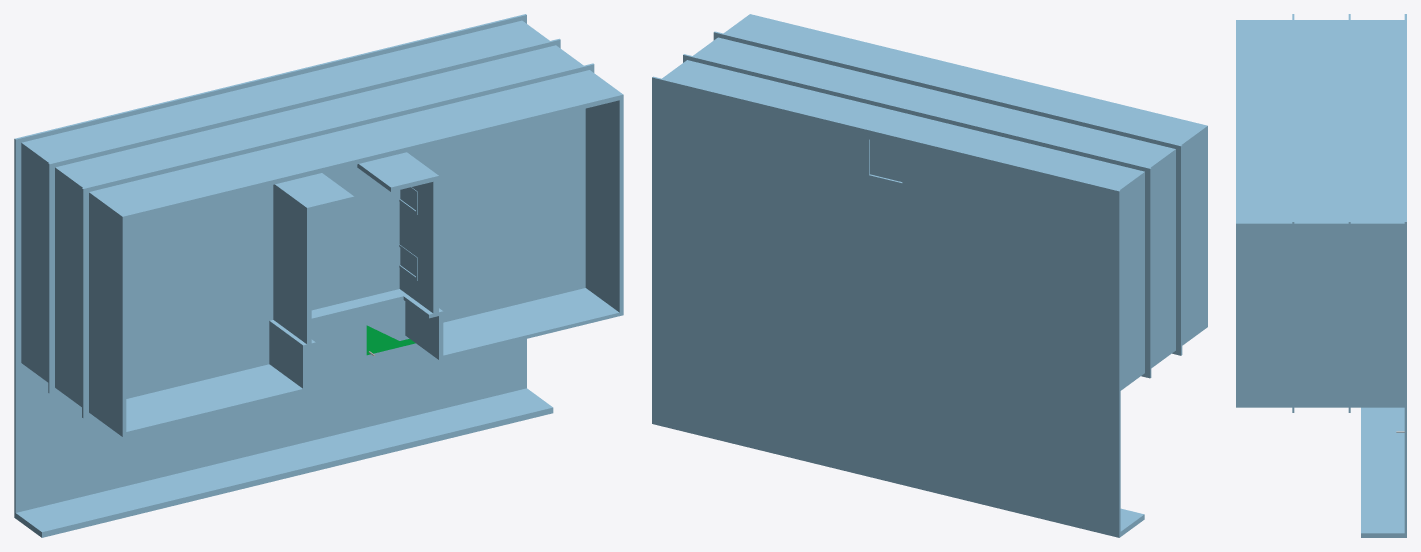
Rendered from building_set2.obj.
3 views of the same model, side by side, from view 1: azimuth 30°, elevation 25°; view 2: azimuth 150°, elevation 25°; view 3: azimuth 270°, elevation 25° (orthographic). The views are drawn at different scales.
Visible parts, largest first — view 1: Floor_2_Plane.005, Lobby_Plane.001, Floor_1_Plane.002; view 2: Lobby_Plane.001, Floor_2_Plane.005, Floor_1_Plane.002; view 3: Lobby_Plane.001, Floor_2_Plane.005, Floor_1_Plane.002.
Part boxes in pixels (x1,y1,x2,y2): Floor_2_Plane.005: [82, 63, 623, 436]; Lobby_Plane.001: [14, 14, 553, 537]; Floor_1_Plane.002: [48, 38, 583, 406]; Lobby_Plane.001: [652, 60, 1144, 537]; Floor_2_Plane.005: [713, 14, 1207, 355]; Floor_1_Plane.002: [683, 37, 1175, 378]; Lobby_Plane.001: [1350, 14, 1406, 537]; Floor_2_Plane.005: [1236, 14, 1294, 412]; Floor_1_Plane.002: [1294, 14, 1350, 412].
Size of the model in its own units: 35 by 24.8 by 12.15.
